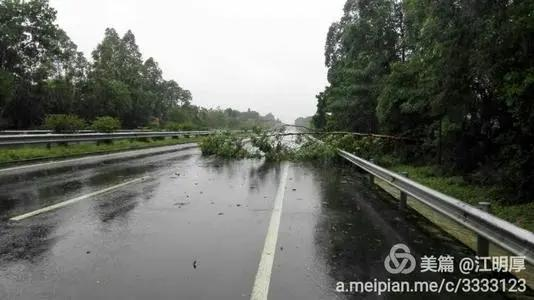Downstairs: (196, 124, 423, 166)
